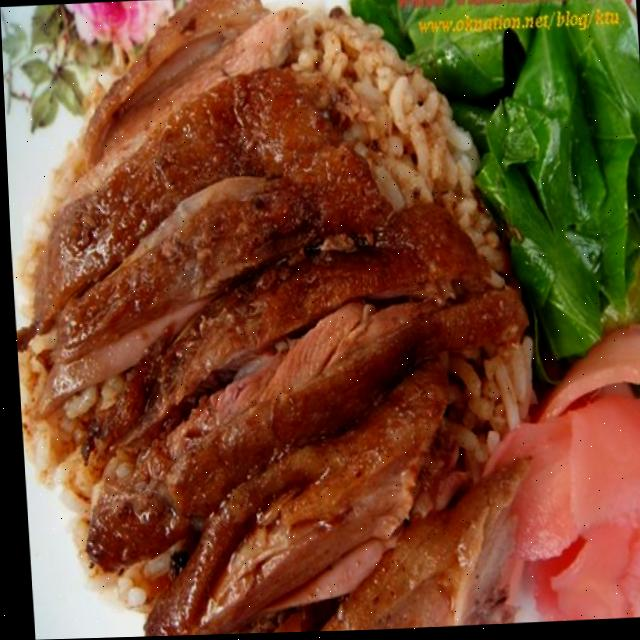米饭主食: (18, 0, 595, 640)
